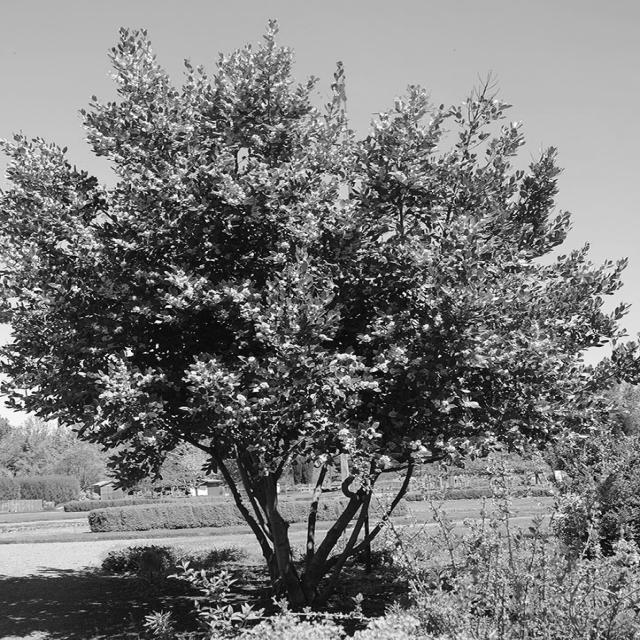Umbellularia californica: (0, 42, 603, 602)
